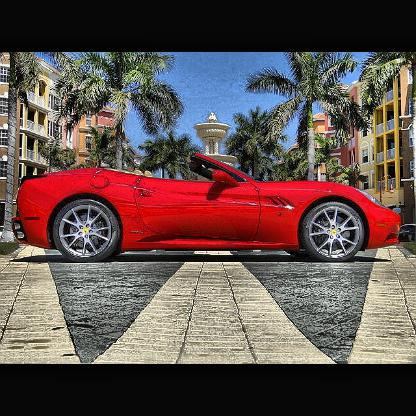Ferrari California Convertible 2012: (13, 154, 403, 265)
